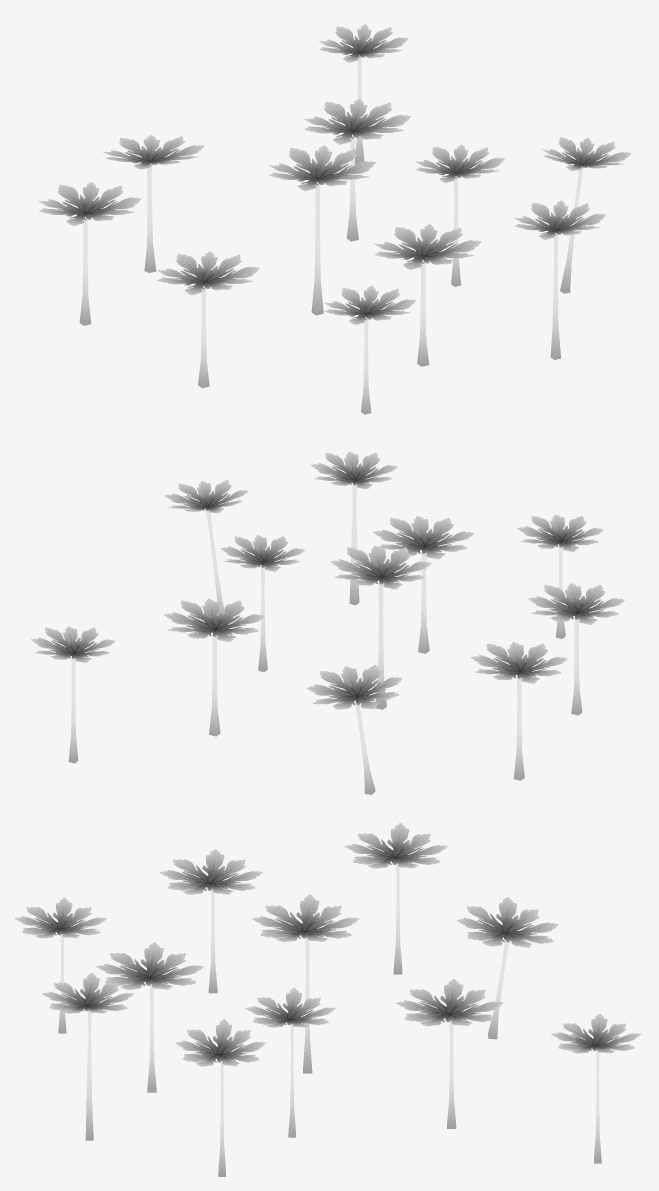
The model's file is SM_DCS_FlowersGroup_01.fbx.
The picture shows the model from 3 angles, top to bottom: view 1: azimuth 30°, elevation 25°; view 2: azimuth 150°, elevation 25°; view 3: azimuth 270°, elevation 25°; orthographic projection. The views are drawn at different scales.
Visible parts, largest first — view 1: SM_FlowerGroup_01_LOD0; view 2: SM_FlowerGroup_01_LOD0; view 3: SM_FlowerGroup_01_LOD0.
Part boxes in pixels (box(x1,y1,x2,y2)): SM_FlowerGroup_01_LOD0: box(38, 24, 631, 414); SM_FlowerGroup_01_LOD0: box(31, 451, 624, 794); SM_FlowerGroup_01_LOD0: box(14, 823, 640, 1176).
Size of what is drawn, in the model's own units: 1.67 by 0.4937 by 1.78.
